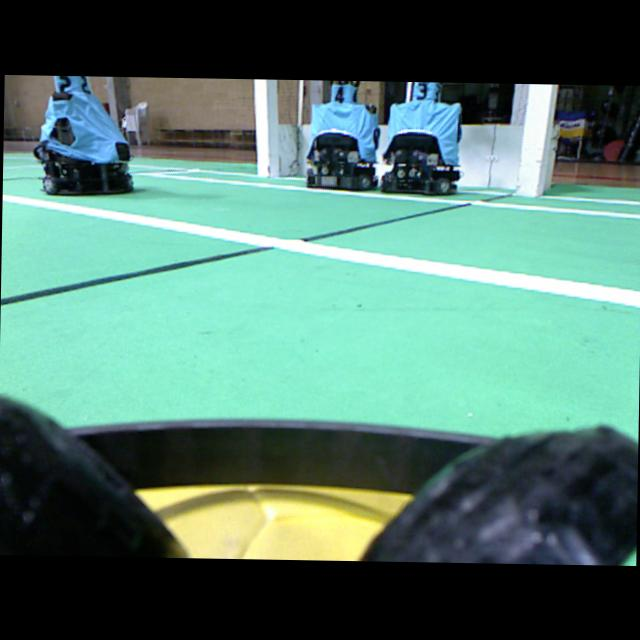ball: (137, 485, 409, 559)
goal: (516, 84, 555, 195), (253, 79, 269, 176)
